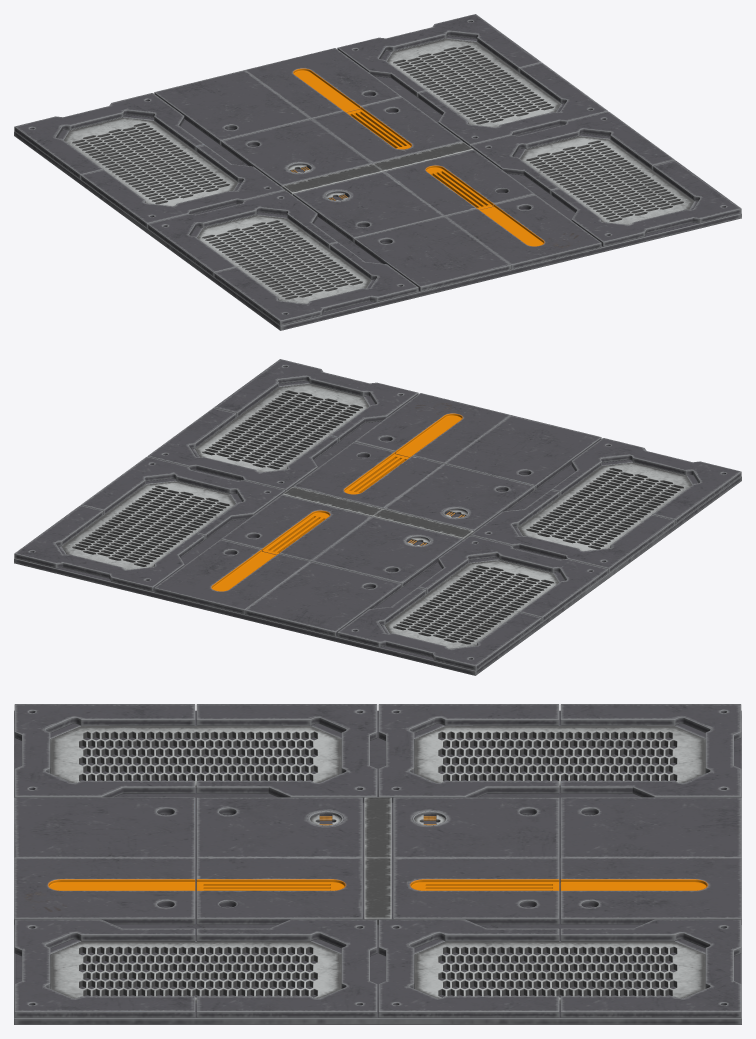
Rendered from sci-fi_floor_panel 2.glb.
3 renders of one model, top to bottom at view 1: azimuth 30°, elevation 25°; view 2: azimuth 150°, elevation 25°; view 3: azimuth 270°, elevation 25°, orthographic. The views are drawn at different scales.
Visible parts, largest first — view 1: Object_3, Object_4; view 2: Object_3, Object_4; view 3: Object_3, Object_2, Object_4.
Boxes of the visible parts, bbox=[...] form: Object_3: bbox=[14, 14, 741, 330]; Object_4: bbox=[199, 215, 370, 297]; Object_3: bbox=[14, 359, 741, 675]; Object_4: bbox=[518, 462, 691, 548]; Object_3: bbox=[14, 704, 741, 1024]; Object_2: bbox=[14, 737, 741, 1024]; Object_4: bbox=[51, 726, 338, 787].
Size of the model in its own units: 3 by 0.06 by 3.
1 material, 1 textured.
